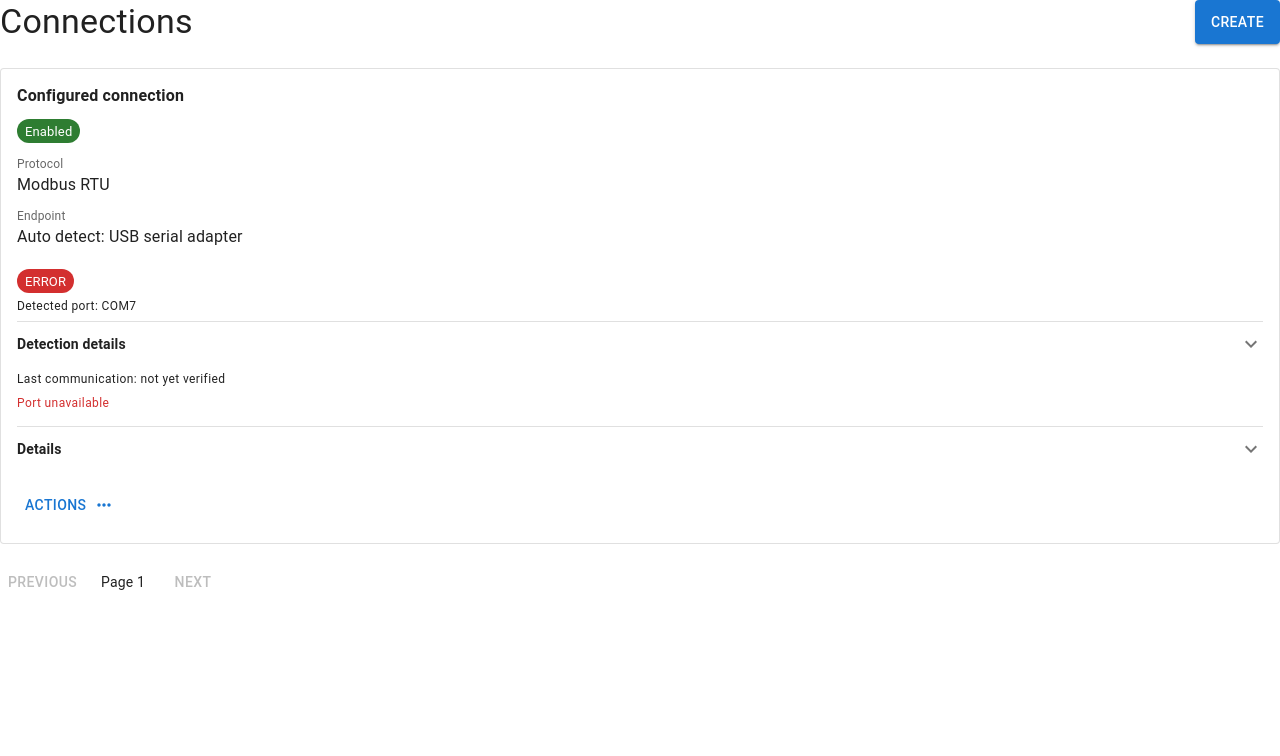
Test: responsive data views › keeps transport test and auto-detection actions inside accessible details
Expected: the text "ERROR" is shown, x1=25 y1=274 x2=66 y2=289
Expected: the text "Port unavailable" is shown, x1=17 y1=396 x2=109 y2=410
Click the button "Detection details". click: [71, 344]
box: x1=17 y1=322 x2=1263 y2=366
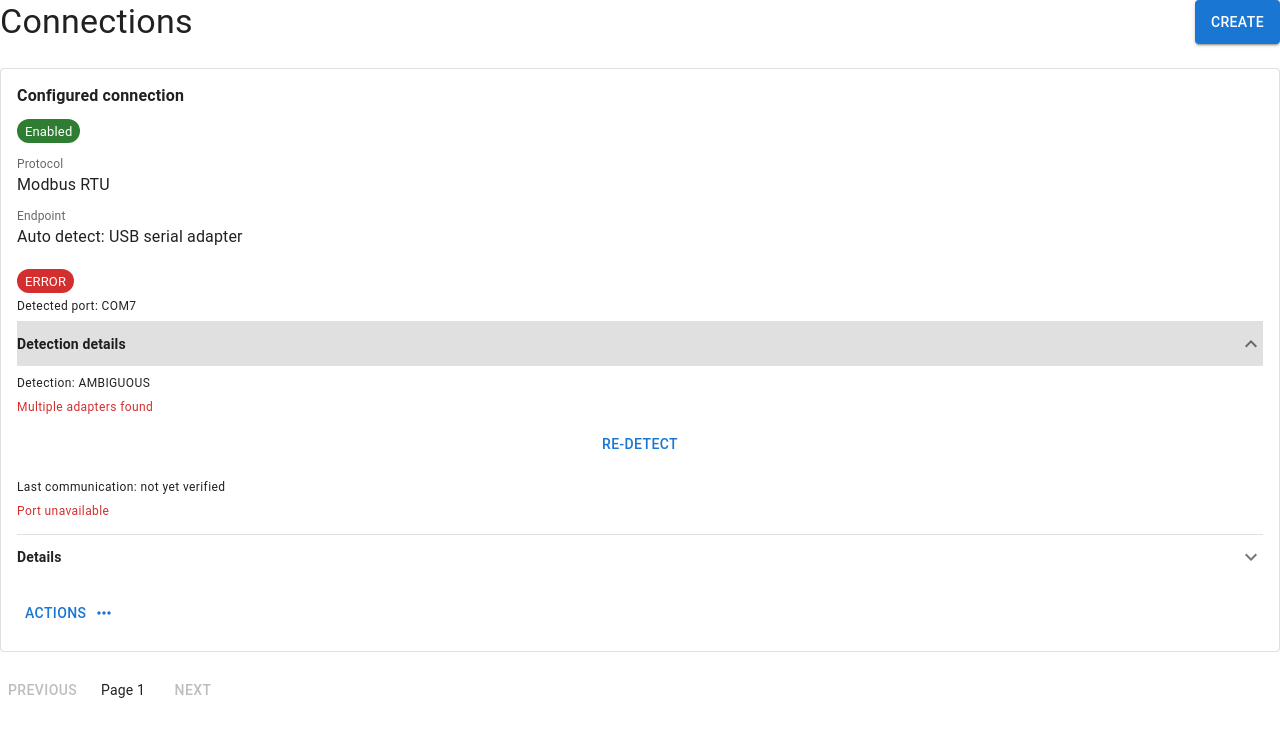
Result: the text "Multiple adapters found" is shown at x1=17 y1=400 x2=153 y2=414
Click the button "Re-detect". click: [640, 444]
box: x1=17 y1=422 x2=1263 y2=466
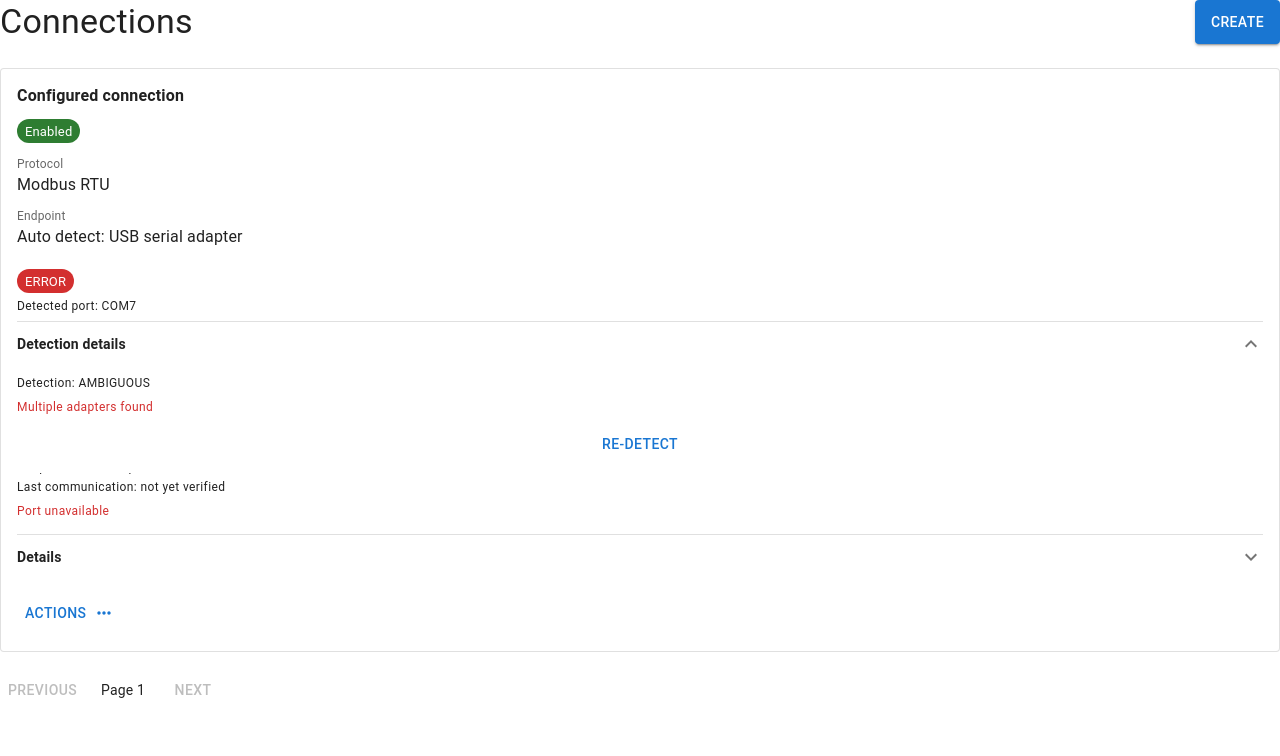
Click the button "Details". click: [39, 557]
box: x1=17 y1=535 x2=1263 y2=579
(page scrolled)
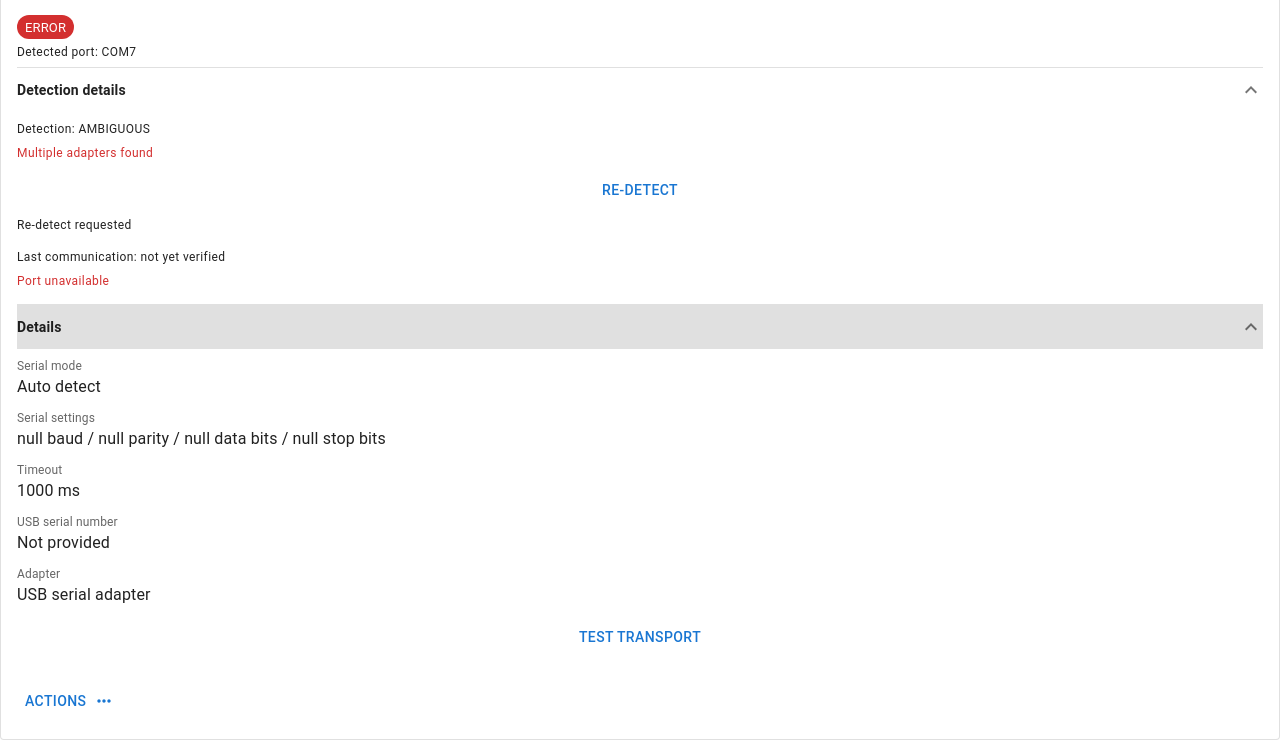
Click the button "Test transport". click: [640, 637]
box: x1=17 y1=615 x2=1263 y2=659
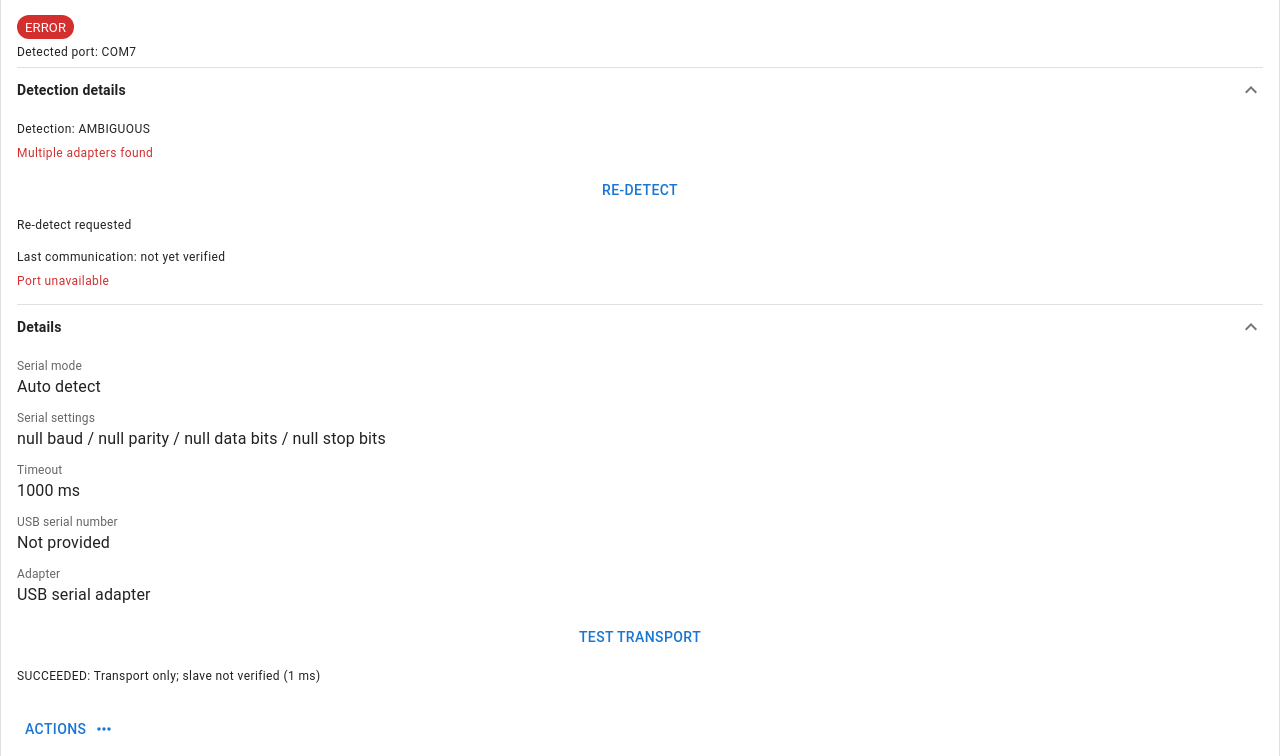
Result: the text "SUCCEEDED: Transport only; slave not verified (1 ms)" is shown at x1=17 y1=669 x2=320 y2=683
